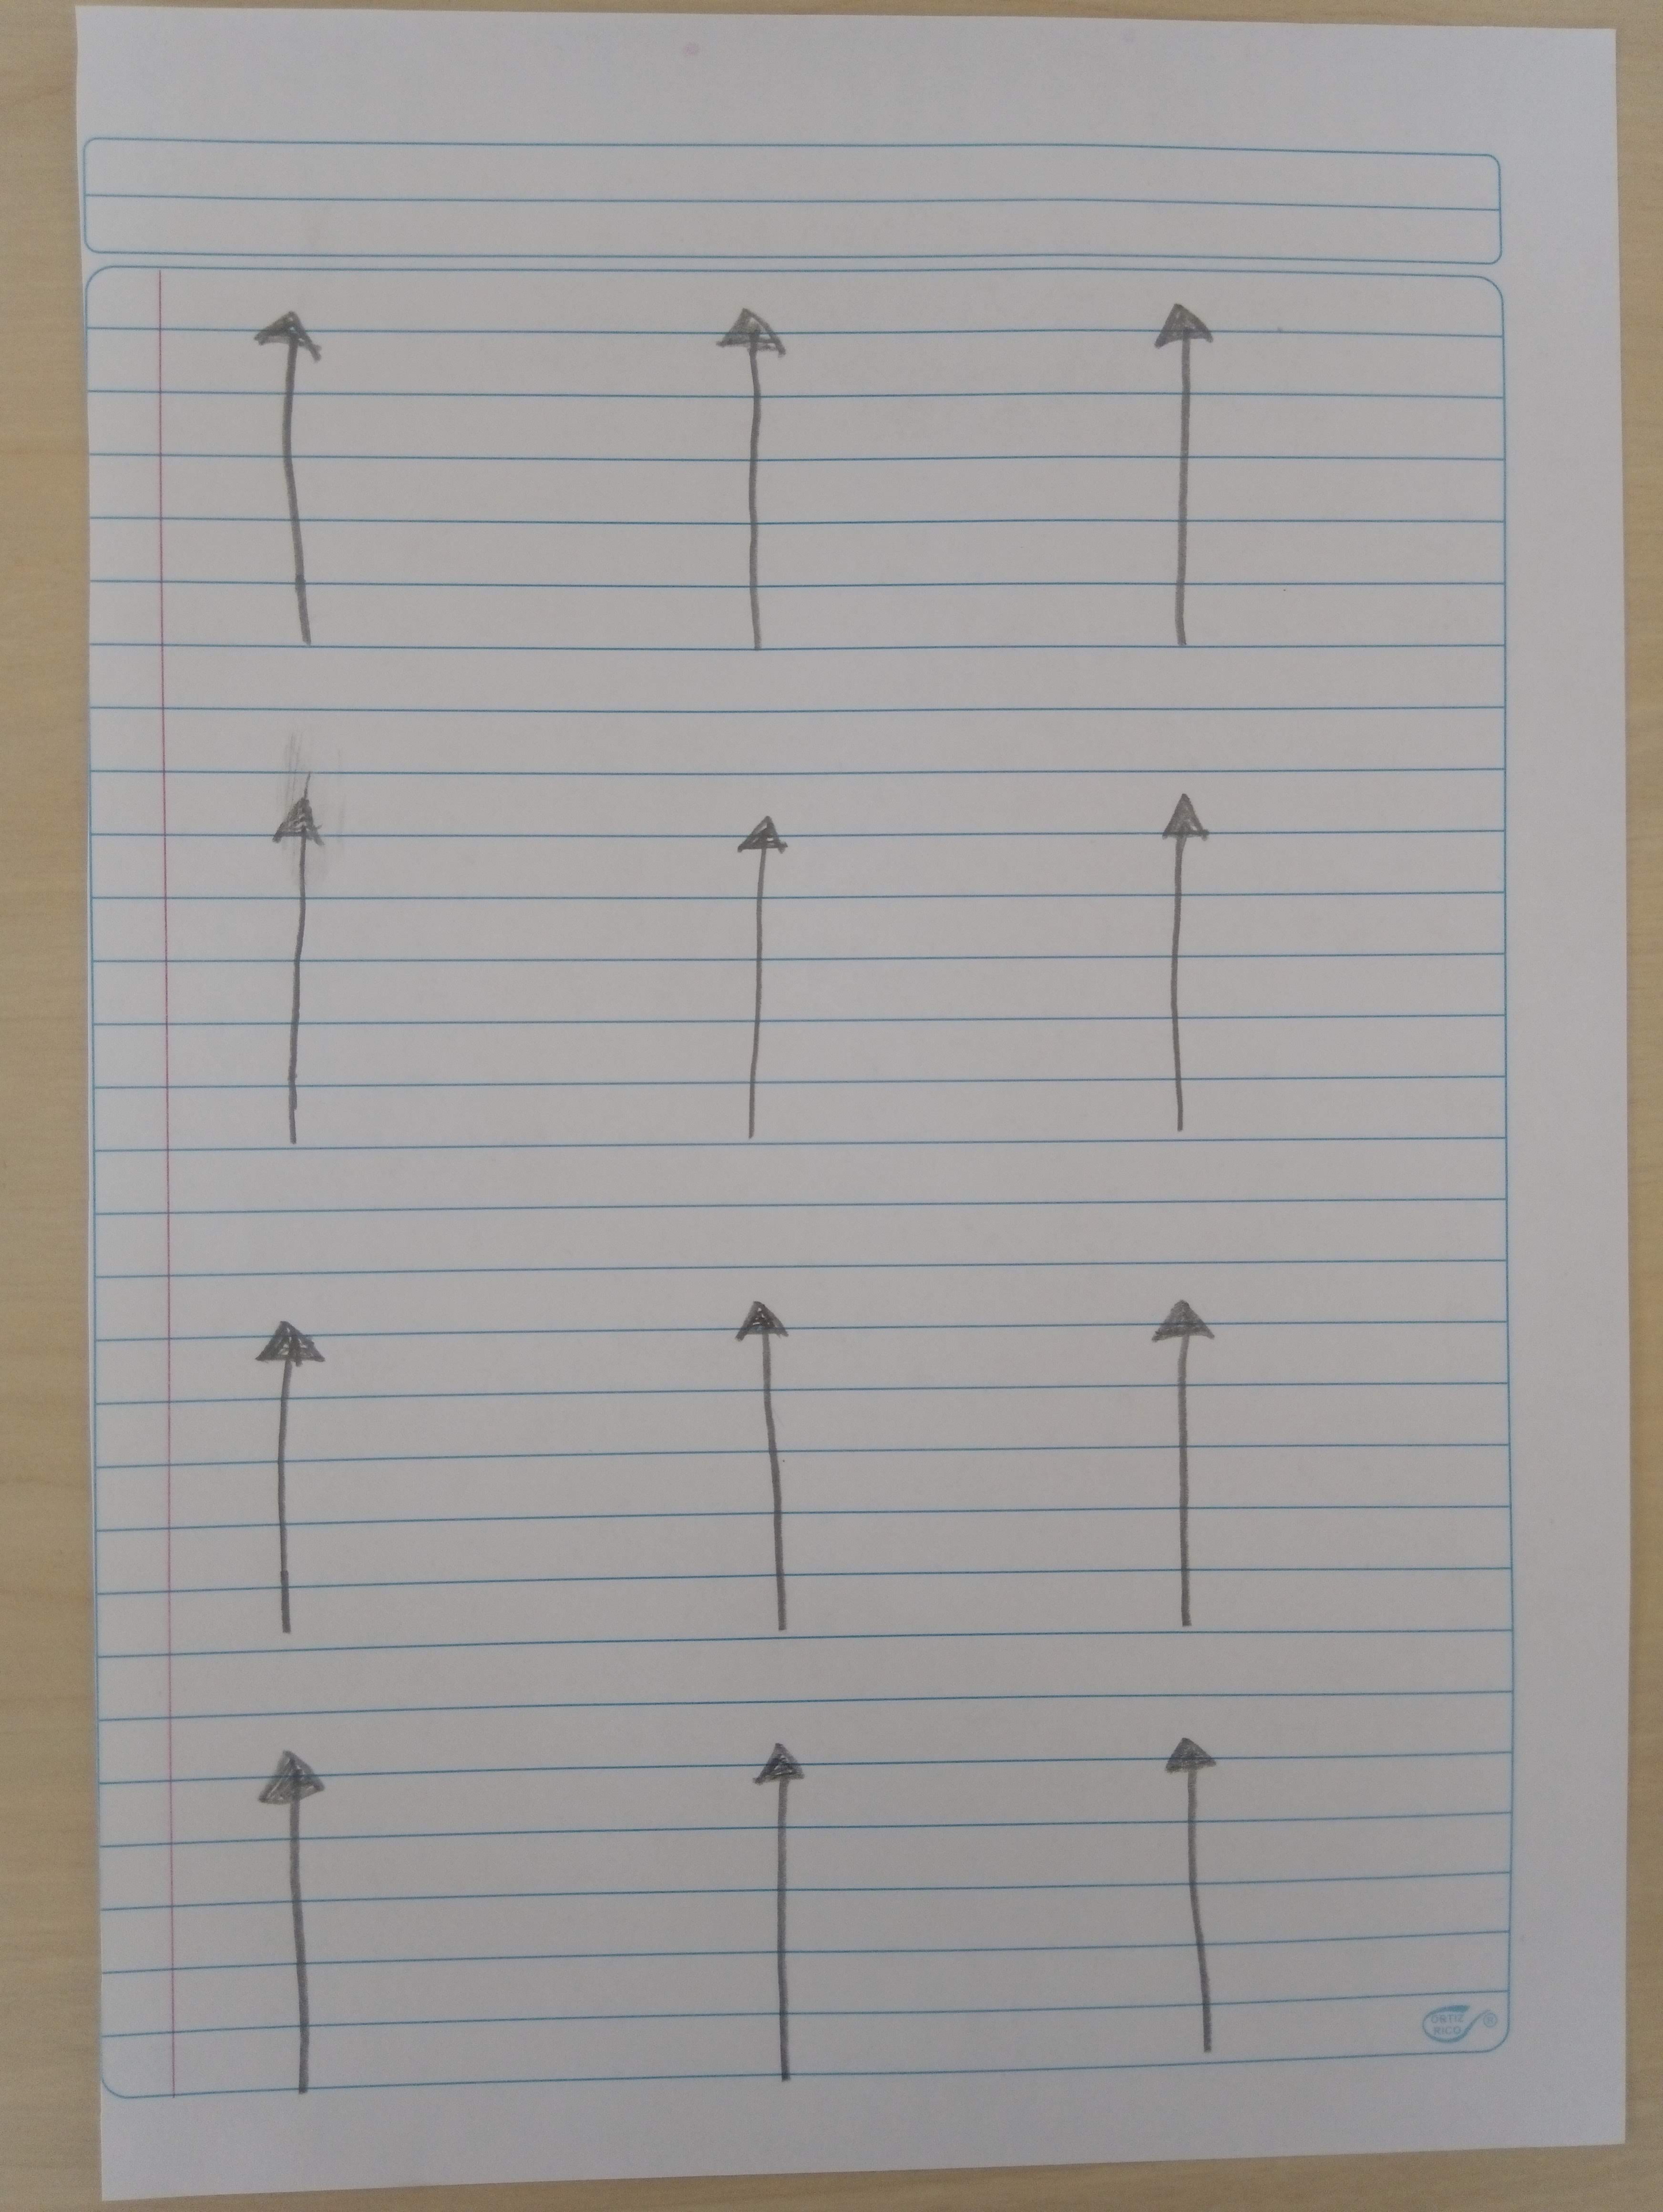arrow_line_up: (706, 1287, 845, 1655), (730, 1725, 842, 2095), (699, 302, 811, 651), (1128, 794, 1237, 1131), (238, 1755, 341, 2107), (1135, 302, 1233, 658), (260, 782, 349, 1156), (241, 1329, 334, 1669), (1156, 1302, 1240, 1674), (714, 814, 811, 1128), (248, 311, 328, 655), (1163, 1725, 1237, 2079)
